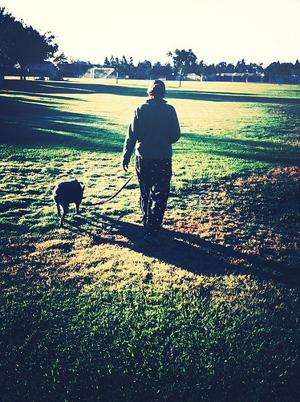person: (123, 79, 181, 245)
